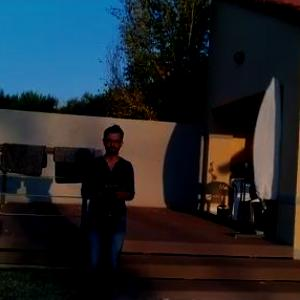follow: (76, 120, 142, 299)
